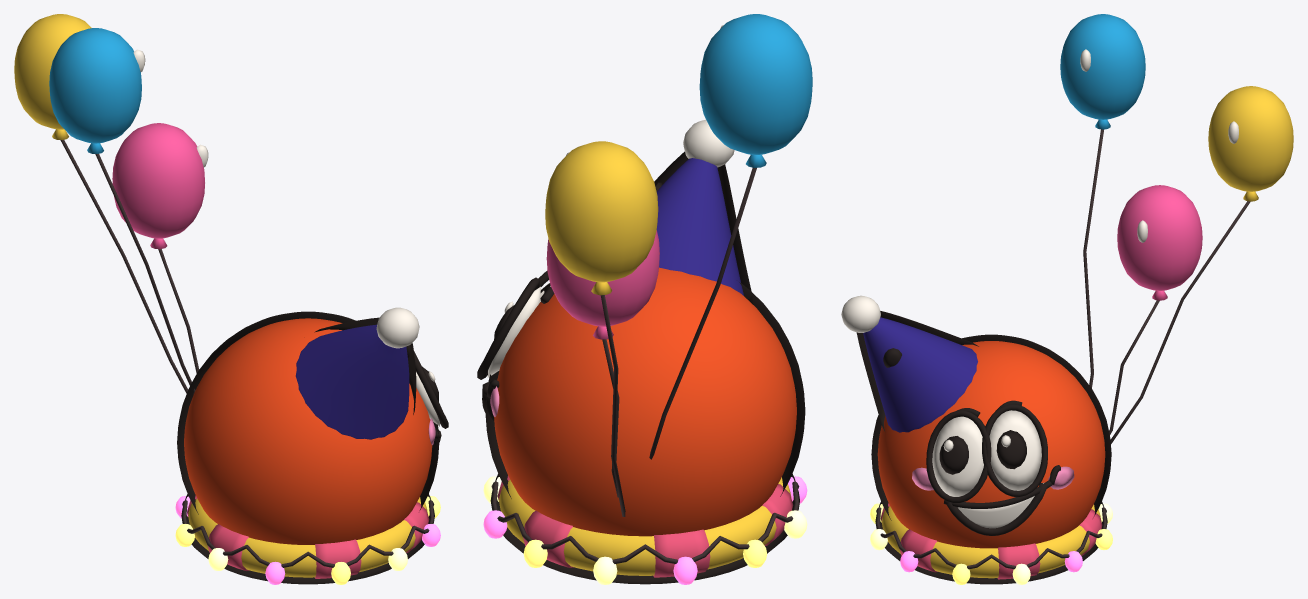
Rendered from boia-fiestera.glb.
3 views of the same model, side by side, from view 1: azimuth 30°, elevation 25°; view 2: azimuth 150°, elevation 25°; view 3: azimuth 270°, elevation 25° (orthographic). The views are drawn at different scales.
Visible parts, largest first — view 1: mascota__boia-fiestera__000, mascota__boia-fiestera__017, mascota__boia-fiestera__048, mascota__boia-fiestera__040, mascota__boia-fiestera__044, mascota__boia-fiestera__020, mascota__boia-fiestera__052, mascota__boia-fiestera__019, mascota__boia-fiestera__027, mascota__boia-fiestera__054, mascota__boia-fiestera__025, mascota__boia-fiestera__047 (+4 smaller); view 2: mascota__boia-fiestera__000, mascota__boia-fiestera__044, mascota__boia-fiestera__048, mascota__boia-fiestera__017, mascota__boia-fiestera__020, mascota__boia-fiestera__040, mascota__boia-fiestera__052, mascota__boia-fiestera__027, mascota__boia-fiestera__054, mascota__boia-fiestera__023, mascota__boia-fiestera__051, mascota__boia-fiestera__019 (+13 smaller); view 3: mascota__boia-fiestera__000, mascota__boia-fiestera__017, mascota__boia-fiestera__040, mascota__boia-fiestera__044, mascota__boia-fiestera__048, mascota__boia-fiestera__020, mascota__boia-fiestera__005, mascota__boia-fiestera__052, mascota__boia-fiestera__001, mascota__boia-fiestera__002, mascota__boia-fiestera__006, mascota__boia-fiestera__053 (+12 smaller).
Part boxes in pixels (left/top/right/bottom): mascota__boia-fiestera__000: left=184, top=318, right=432, bottom=544; mascota__boia-fiestera__017: left=295, top=324, right=409, bottom=439; mascota__boia-fiestera__048: left=49, top=28, right=141, bottom=143; mascota__boia-fiestera__040: left=112, top=123, right=204, bottom=238; mascota__boia-fiestera__044: left=14, top=14, right=91, bottom=129; mascota__boia-fiestera__020: left=188, top=497, right=427, bottom=577; mascota__boia-fiestera__052: left=177, top=311, right=439, bottom=514; mascota__boia-fiestera__019: left=376, top=307, right=419, bottom=348; mascota__boia-fiestera__027: left=182, top=500, right=434, bottom=567; mascota__boia-fiestera__054: left=181, top=494, right=434, bottom=584; mascota__boia-fiestera__025: left=314, top=539, right=361, bottom=578; mascota__boia-fiestera__047: left=60, top=140, right=188, bottom=393; mascota__boia-fiestera__000: left=494, top=267, right=796, bottom=536; mascota__boia-fiestera__044: left=545, top=141, right=658, bottom=282; mascota__boia-fiestera__048: left=699, top=14, right=812, bottom=154; mascota__boia-fiestera__017: left=656, top=158, right=743, bottom=295; mascota__boia-fiestera__020: left=499, top=477, right=791, bottom=575; mascota__boia-fiestera__040: left=546, top=230, right=659, bottom=326; mascota__boia-fiestera__052: left=485, top=282, right=805, bottom=498; mascota__boia-fiestera__027: left=491, top=481, right=799, bottom=563; mascota__boia-fiestera__054: left=490, top=474, right=799, bottom=584; mascota__boia-fiestera__023: left=653, top=529, right=710, bottom=577; mascota__boia-fiestera__051: left=649, top=168, right=756, bottom=459; mascota__boia-fiestera__019: left=683, top=119, right=734, bottom=167; mascota__boia-fiestera__000: left=877, top=341, right=1105, bottom=548; mascota__boia-fiestera__017: left=863, top=317, right=977, bottom=432; mascota__boia-fiestera__040: left=1117, top=185, right=1202, bottom=290; mascota__boia-fiestera__044: left=1208, top=86, right=1293, bottom=191; mascota__boia-fiestera__048: left=1060, top=14, right=1145, bottom=119; mascota__boia-fiestera__020: left=881, top=504, right=1100, bottom=578; mascota__boia-fiestera__005: left=989, top=410, right=1041, bottom=490; mascota__boia-fiestera__052: left=871, top=334, right=1111, bottom=520; mascota__boia-fiestera__001: left=932, top=416, right=983, bottom=496; mascota__boia-fiestera__002: left=926, top=410, right=991, bottom=503; mascota__boia-fiestera__006: left=982, top=404, right=1047, bottom=496; mascota__boia-fiestera__053: left=856, top=311, right=978, bottom=431.
Size of the model in its own units: 1.16 by 1.85 by 1.59.
